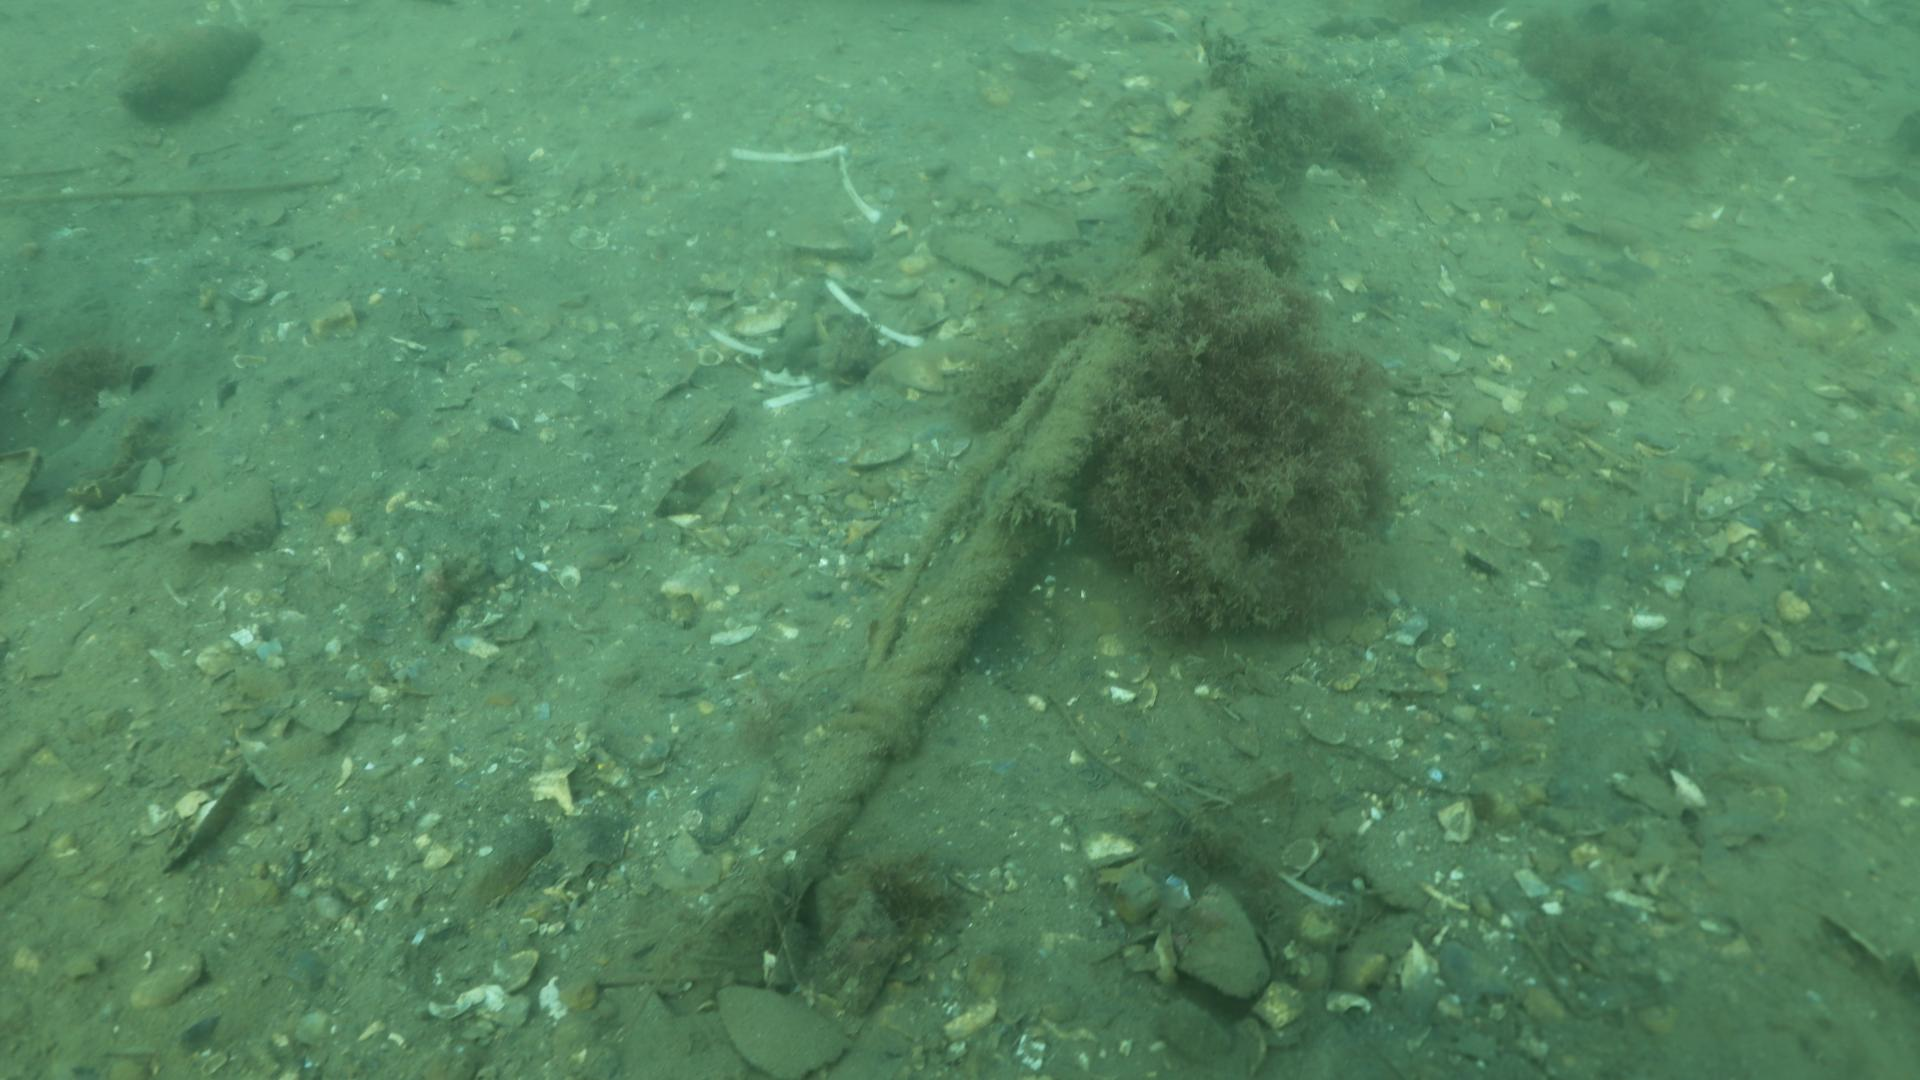rope: (702, 74, 1255, 967)
